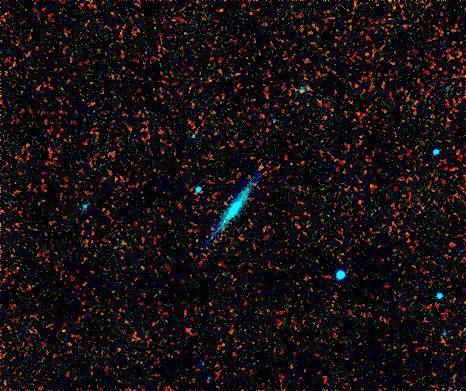star: (239, 151, 269, 181)
